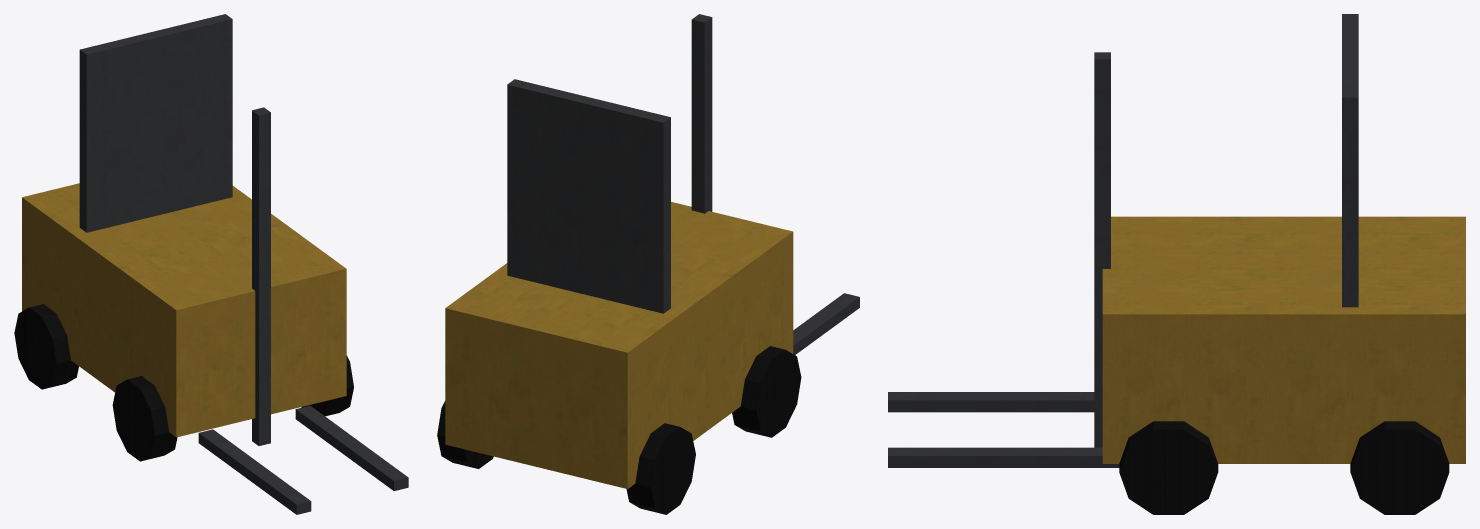
The model's file is forklift_01.glb.
The picture shows the model from 3 angles, left to right: view 1: azimuth 30°, elevation 25°; view 2: azimuth 150°, elevation 25°; view 3: azimuth 270°, elevation 25°; orthographic projection. The views are drawn at different scales.
Visible parts, largest first — view 1: forklift_01; view 2: forklift_01; view 3: forklift_01.
Boxes of the visible parts, x1=… form: forklift_01: x1=14, y1=14, x2=408, y2=514; forklift_01: x1=437, y1=14, x2=859, y2=514; forklift_01: x1=888, y1=14, x2=1465, y2=514.
Bounding box in the file's own units: 1.64 × 2.69 × 3.5.
Materials: 3 (3 with a texture image).
